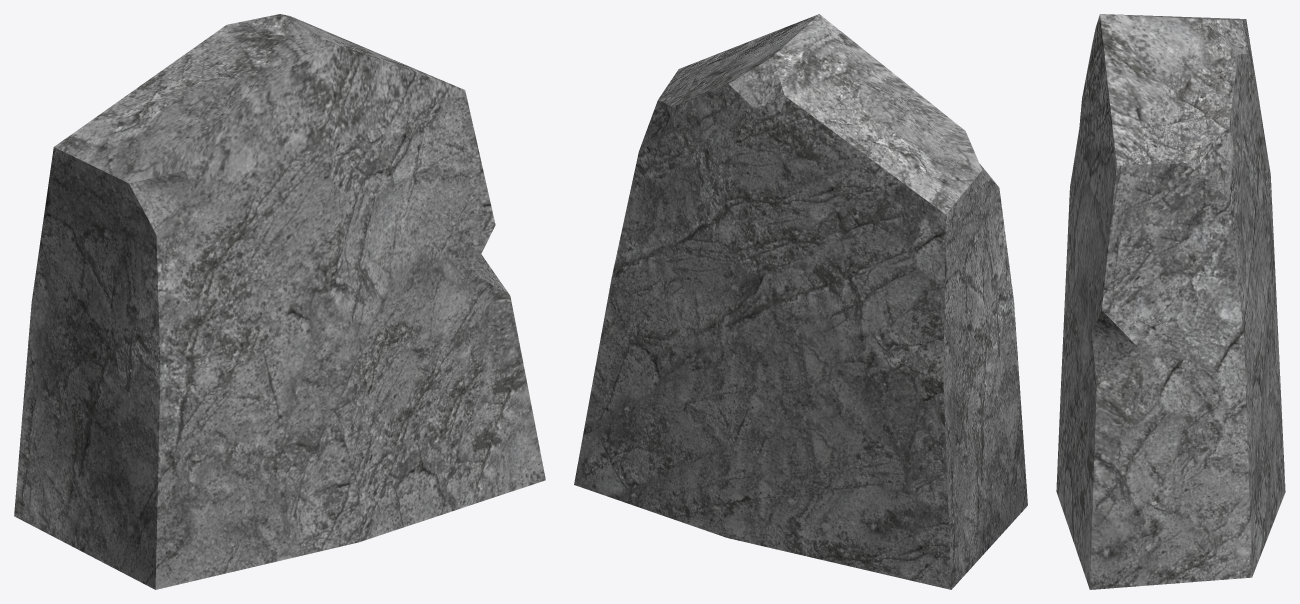
Rendered from materials_3_stone_0.fbx.
The picture shows the model from 3 angles, left to right: view 1: azimuth 30°, elevation 25°; view 2: azimuth 150°, elevation 25°; view 3: azimuth 270°, elevation 25°; orthographic projection. The views are drawn at different scales.
Parts seen in each view (by area): view 1: materials_3_stone_0; view 2: materials_3_stone_0; view 3: materials_3_stone_0.
Boxes of the visible parts, box(x1,y1,x2,y2) form: materials_3_stone_0: box(14, 14, 545, 589); materials_3_stone_0: box(574, 14, 1027, 589); materials_3_stone_0: box(1056, 14, 1285, 589).
Bounding box in the file's own units: 87.56 × 92.57 × 40.34.
